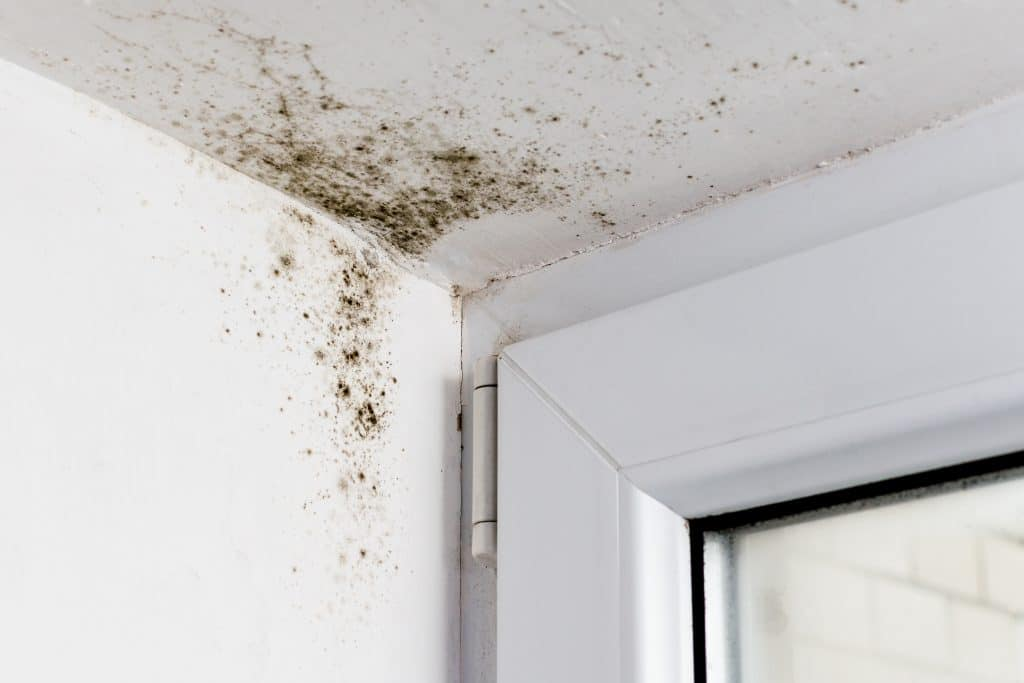schimmel: (321, 244, 411, 561), (395, 118, 575, 238), (307, 102, 388, 232), (255, 53, 297, 172), (275, 249, 301, 273)
